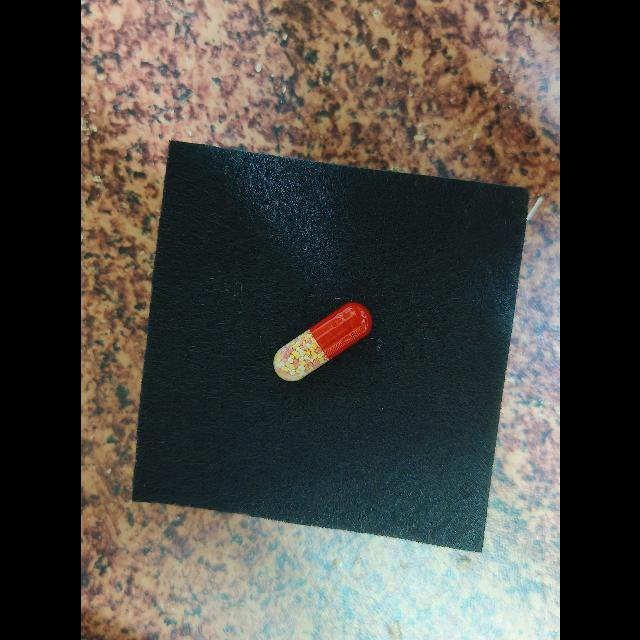Intact Capsule: (273, 302, 372, 381)
